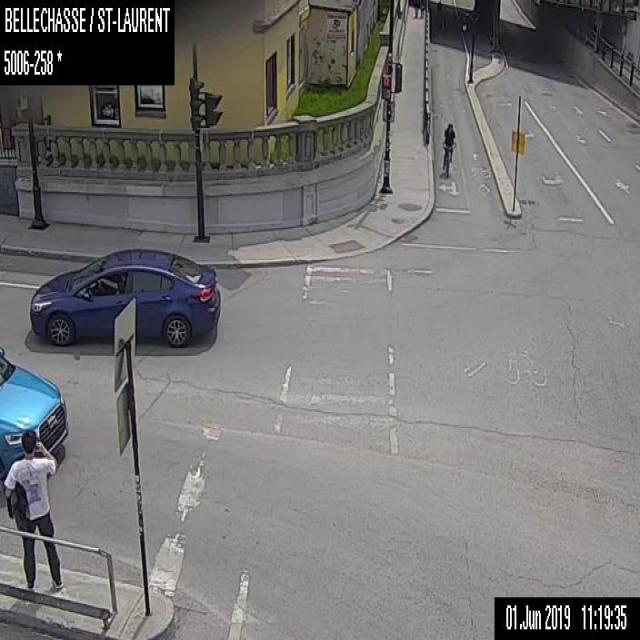cyclist: (441, 122, 454, 178)
pedestrian: (2, 428, 62, 590), (412, 0, 419, 17), (419, 0, 424, 17)
vehicle: (29, 246, 221, 342), (0, 346, 69, 490)
